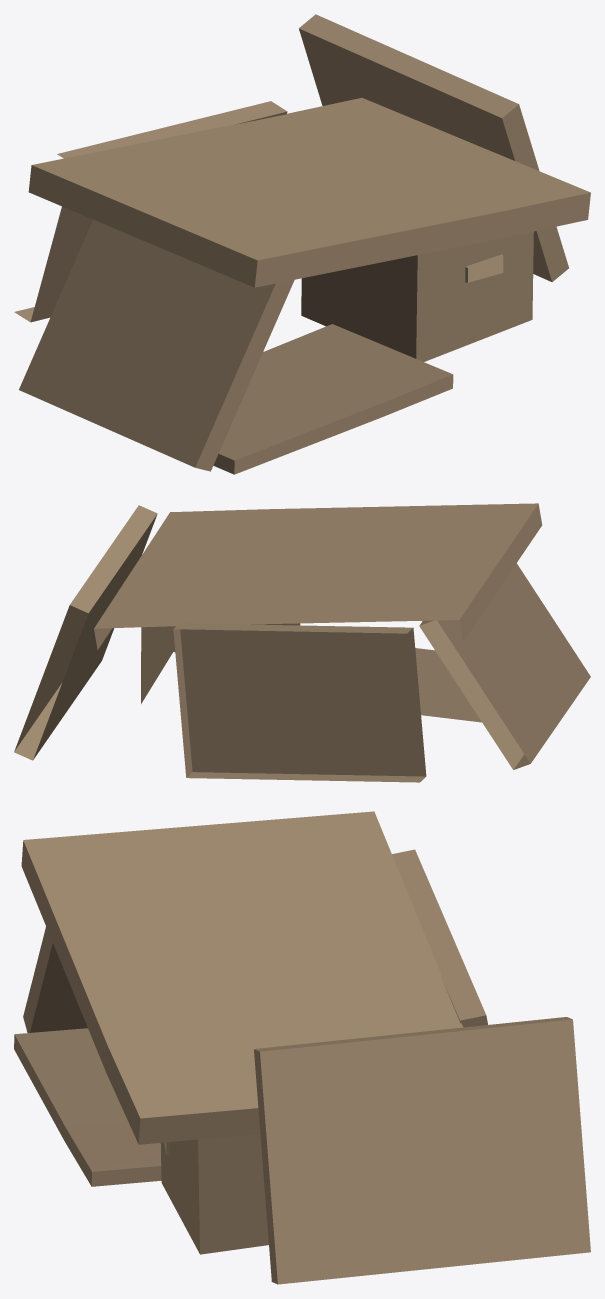
Rendered from MSH_QuestObject_container_01.fbx.
3 views of the same model, one above another, from view 1: azimuth 30°, elevation 25°; view 2: azimuth 150°, elevation 25°; view 3: azimuth 270°, elevation 25° (orthographic). The views are drawn at different scales.
Visible parts, largest first — view 1: MSH_QuestObject_container_01; view 2: MSH_QuestObject_container_01; view 3: MSH_QuestObject_container_01.
Part boxes in pixels (x1,y1,x2,y2): MSH_QuestObject_container_01: (14, 14, 590, 474); MSH_QuestObject_container_01: (14, 503, 590, 782); MSH_QuestObject_container_01: (14, 811, 590, 1284).
Bounding box in the file's own units: 3.91 × 1.47 × 3.29.
